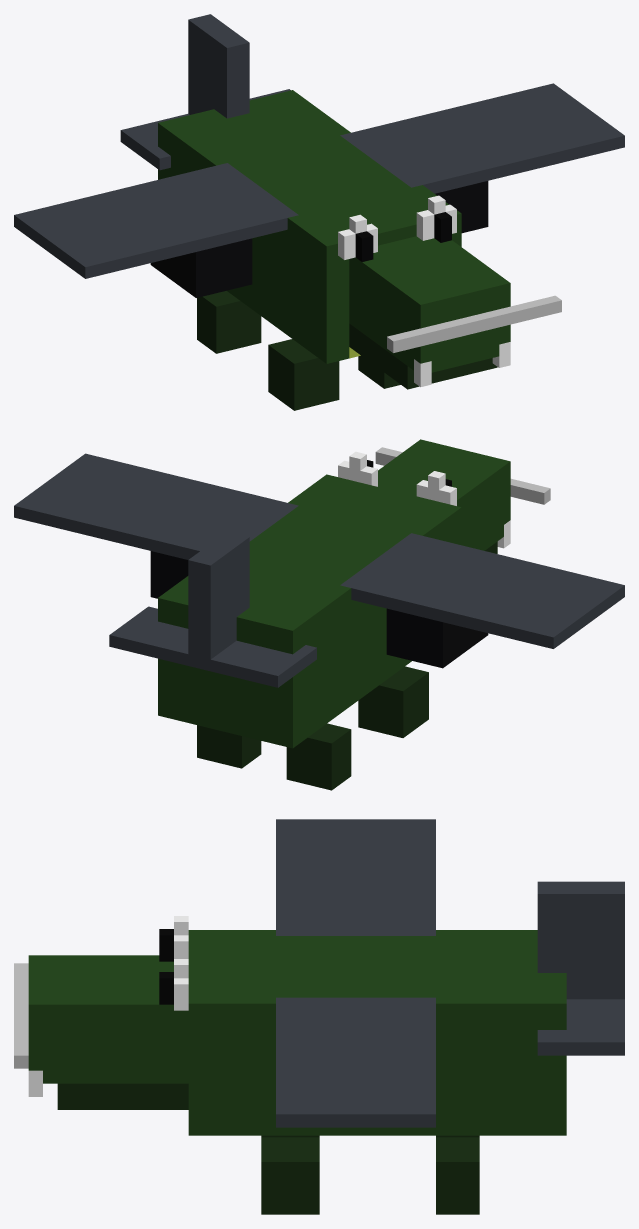
Rendered from bombardiro_crocodilo.glb.
The picture shows the model from 3 angles, top to bottom: view 1: azimuth 30°, elevation 25°; view 2: azimuth 150°, elevation 25°; view 3: azimuth 270°, elevation 25°; orthographic projection. The views are drawn at different scales.
Parts seen in each view (by area): view 1: brainrot; view 2: brainrot; view 3: brainrot.
Part boxes in pixels (box(x1,y1,x2,y2)): brainrot: box(14, 14, 624, 410); brainrot: box(14, 439, 624, 790); brainrot: box(14, 819, 624, 1214).
Size of the model in its own units: 9.6 by 4.4 by 8.4.
1 material, 1 textured.
